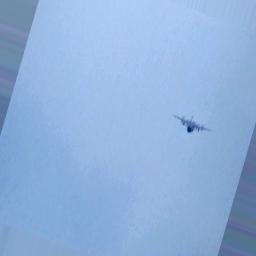Airplane: (172, 112, 214, 134)
